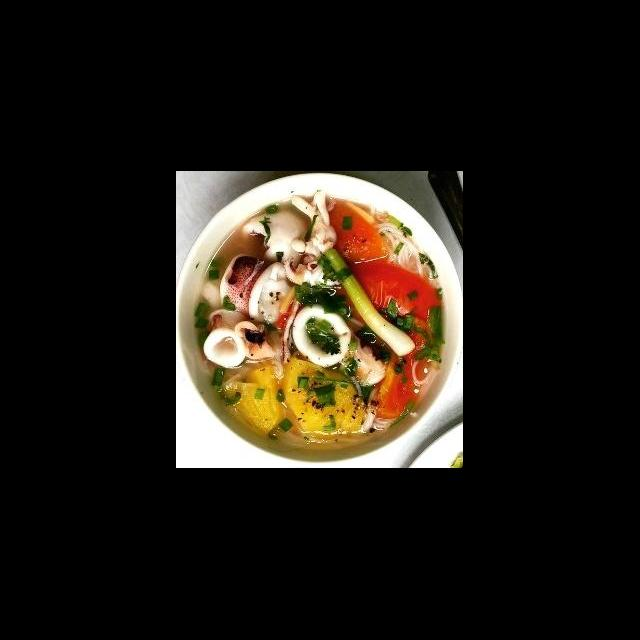bun: (370, 218, 438, 286)
muc: (278, 188, 348, 288), (215, 250, 298, 326), (236, 208, 310, 274), (288, 302, 357, 370), (200, 306, 256, 370)
